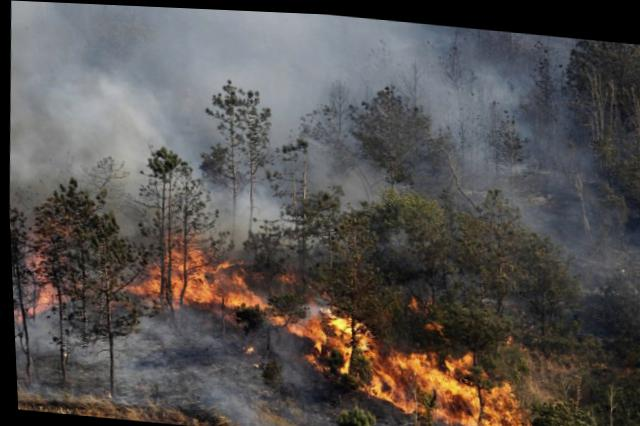fire: (138, 224, 559, 425), (12, 221, 74, 323)
